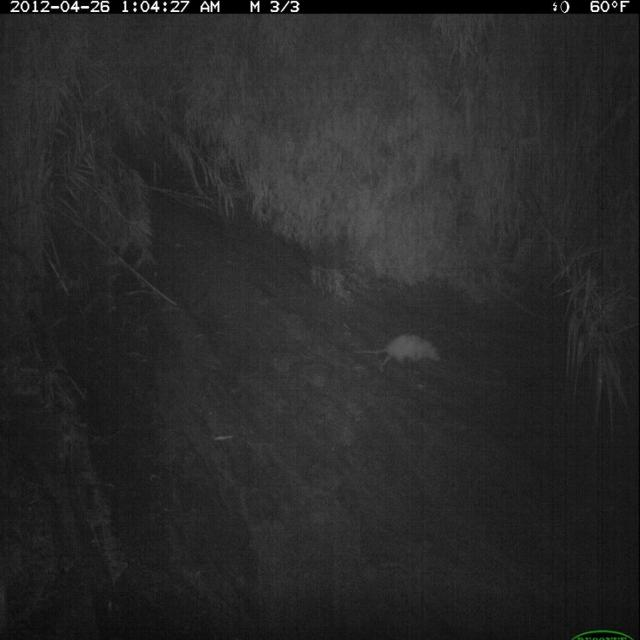opossum: (354, 331, 445, 376)
